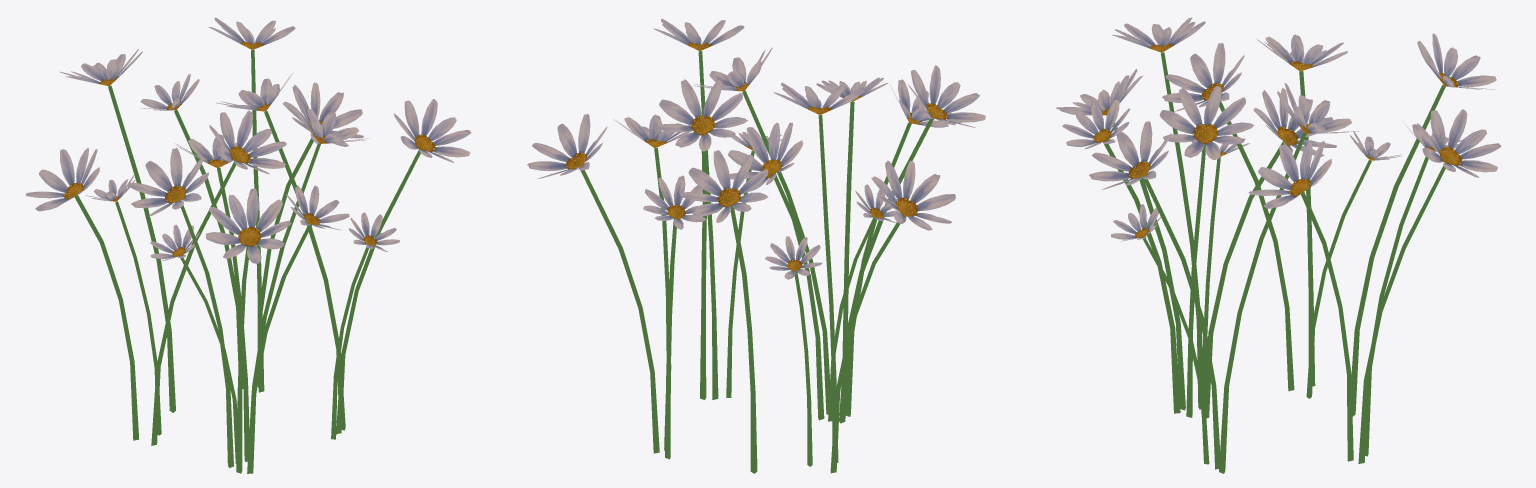
Rendered from SM_Flower_05_03.fbx.
3 renders of one model, left to right at view 1: azimuth 30°, elevation 25°; view 2: azimuth 150°, elevation 25°; view 3: azimuth 270°, elevation 25°, orthographic. The views are drawn at different scales.
Parts seen in each view (by area): view 1: SM_Flower_05_03_LOD0; view 2: SM_Flower_05_03_LOD0; view 3: SM_Flower_05_03_LOD0.
Boxes of the visible parts, x1,y1,x2,y2 form: SM_Flower_05_03_LOD0: (25,17,471,473); SM_Flower_05_03_LOD0: (527,19,985,473); SM_Flower_05_03_LOD0: (1056,17,1501,473).
Size of what is drawn, in the model's own units: 74.47 by 64.75 by 76.17.
